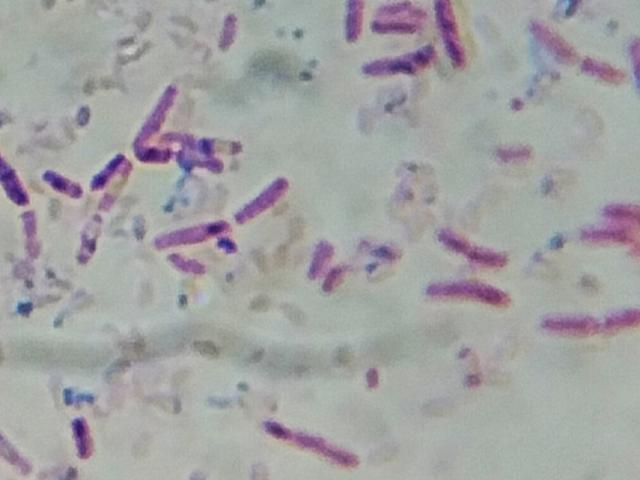E. coli: (259, 415, 365, 469), (536, 299, 640, 339), (431, 222, 509, 266), (430, 0, 474, 71), (232, 174, 294, 222), (139, 72, 180, 143), (422, 273, 510, 306), (365, 47, 440, 81), (156, 217, 232, 250), (160, 134, 247, 155), (579, 227, 640, 256), (43, 163, 84, 206), (533, 23, 578, 62), (71, 405, 103, 459), (0, 150, 28, 211), (213, 5, 244, 57), (583, 55, 632, 87), (307, 229, 333, 282), (171, 154, 229, 176), (93, 148, 123, 190), (328, 262, 357, 301), (599, 195, 640, 221), (343, 0, 368, 42), (135, 146, 174, 168), (375, 15, 418, 34)
